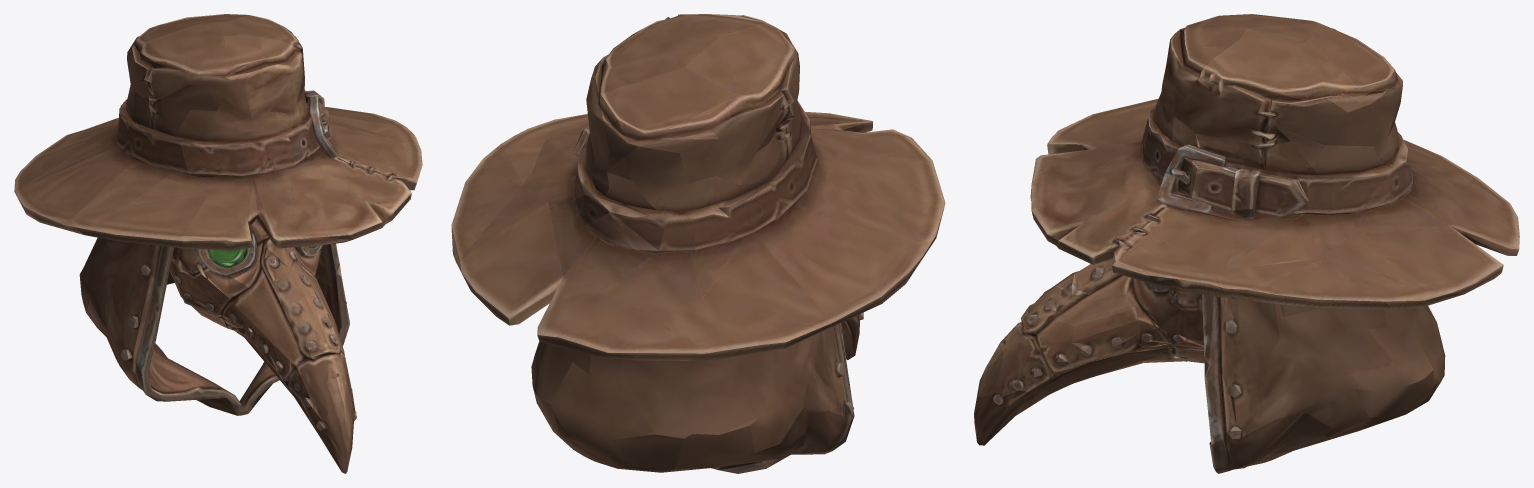
Rendered from becchino-testa.glb.
3 views of the same model, side by side, from view 1: azimuth 30°, elevation 25°; view 2: azimuth 150°, elevation 25°; view 3: azimuth 270°, elevation 25° (orthographic). The views are drawn at different scales.
Visible parts, largest first — view 1: Mesh_0; view 2: Mesh_0; view 3: Mesh_0.
Part boxes in pixels (x1=…): Mesh_0: x1=14, y1=14, x2=422, y2=473; Mesh_0: x1=451, y1=14, x2=945, y2=473; Mesh_0: x1=974, y1=14, x2=1519, y2=473.
Bounding box in the file's own units: 1.66 × 1.66 × 1.9.
1 material, 1 textured.
